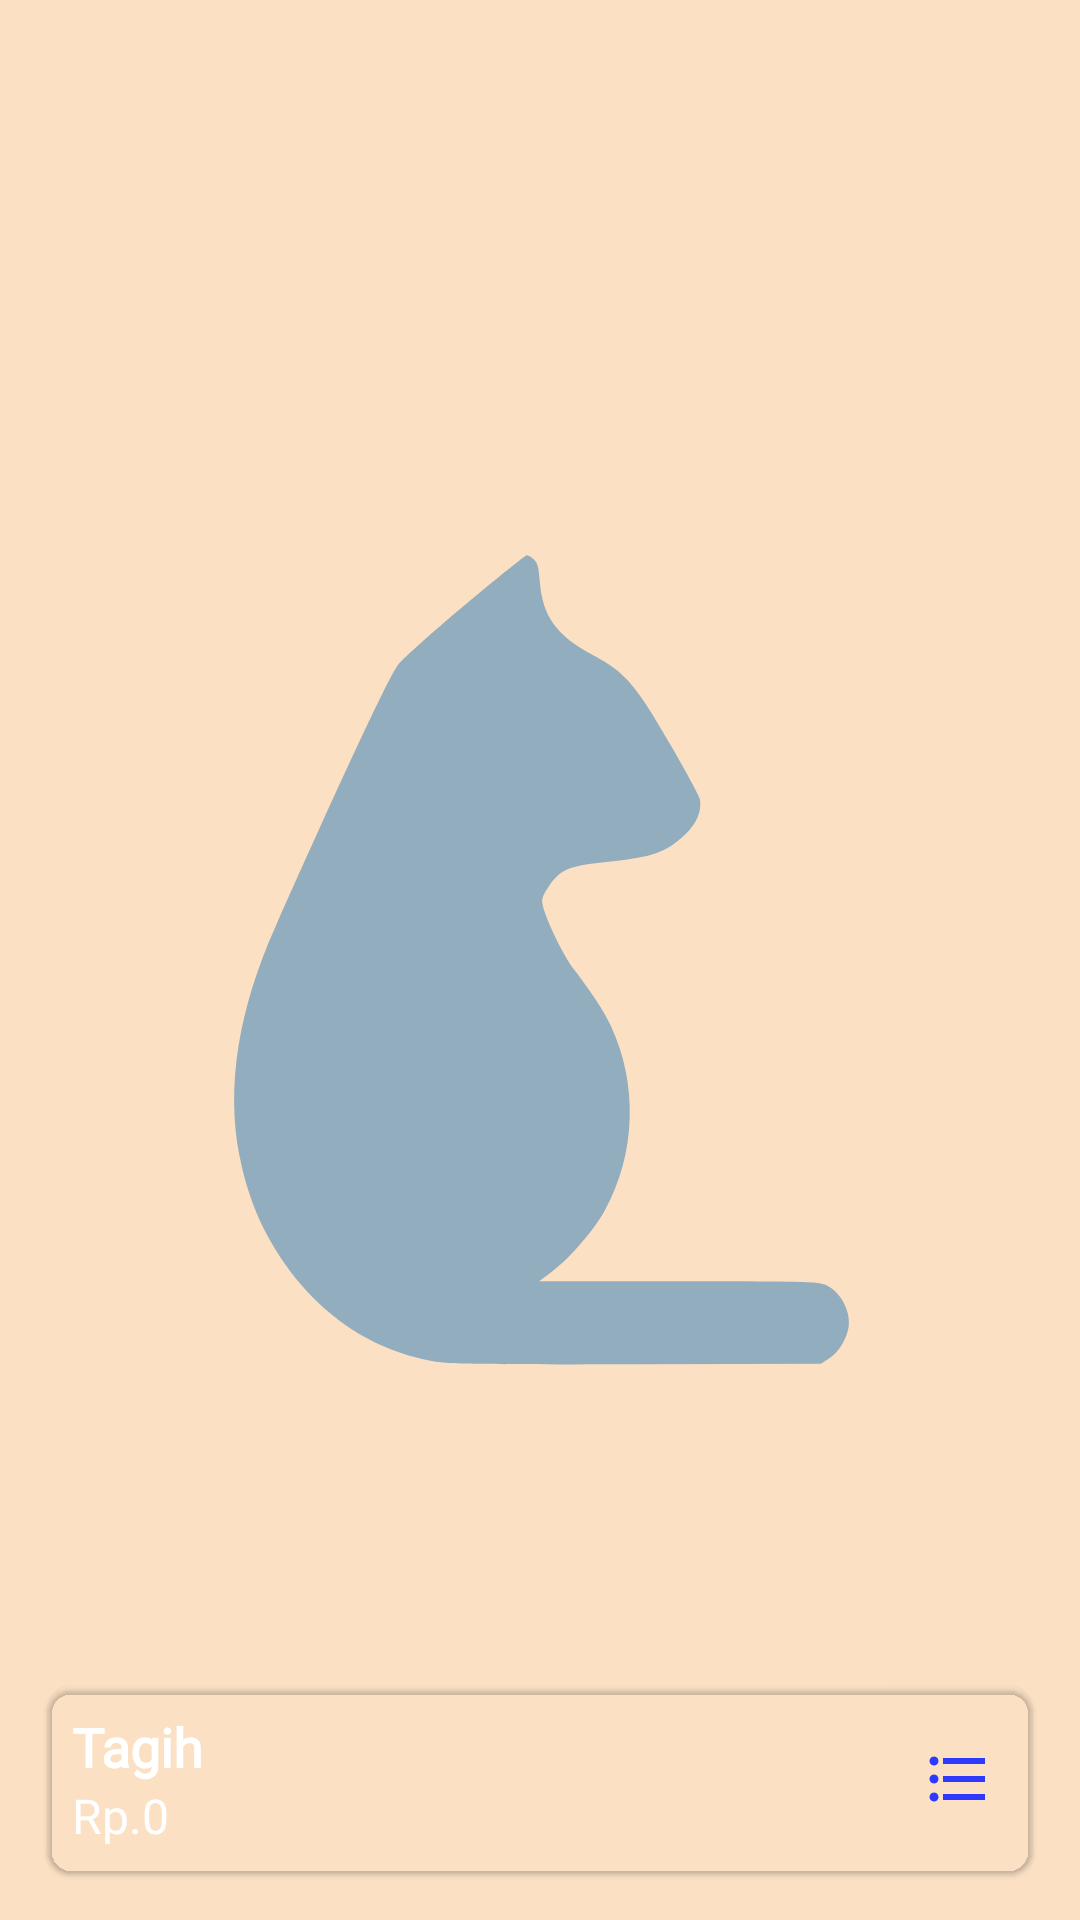

Named icons in this screenshot (1080×1920) and their bounding boxes, Rect(x1, y1, x2, y2):
format list bulleted: Rect(929, 1756, 985, 1802)
